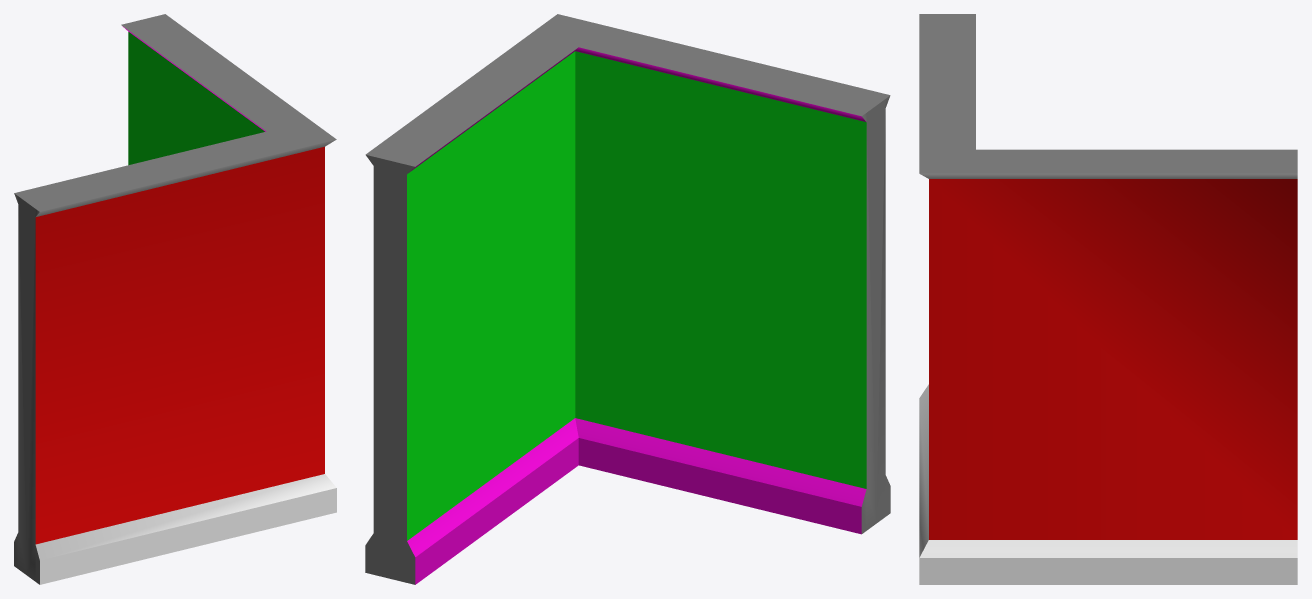
File: InnerFlatEdge.FBX
The picture shows the model from 3 angles, left to right: view 1: azimuth 30°, elevation 25°; view 2: azimuth 150°, elevation 25°; view 3: azimuth 270°, elevation 25°; orthographic projection. The views are drawn at different scales.
Parts seen in each view (by area): view 1: ModularWallInnerFlat; view 2: ModularWallInnerFlat; view 3: ModularWallInnerFlat.
Part boxes in pixels (box(x1,y1,x2,y2)): ModularWallInnerFlat: box(14, 14, 336, 584); ModularWallInnerFlat: box(365, 14, 890, 584); ModularWallInnerFlat: box(919, 14, 1297, 584).
Size of the model in its own units: 100 by 120 by 100.
